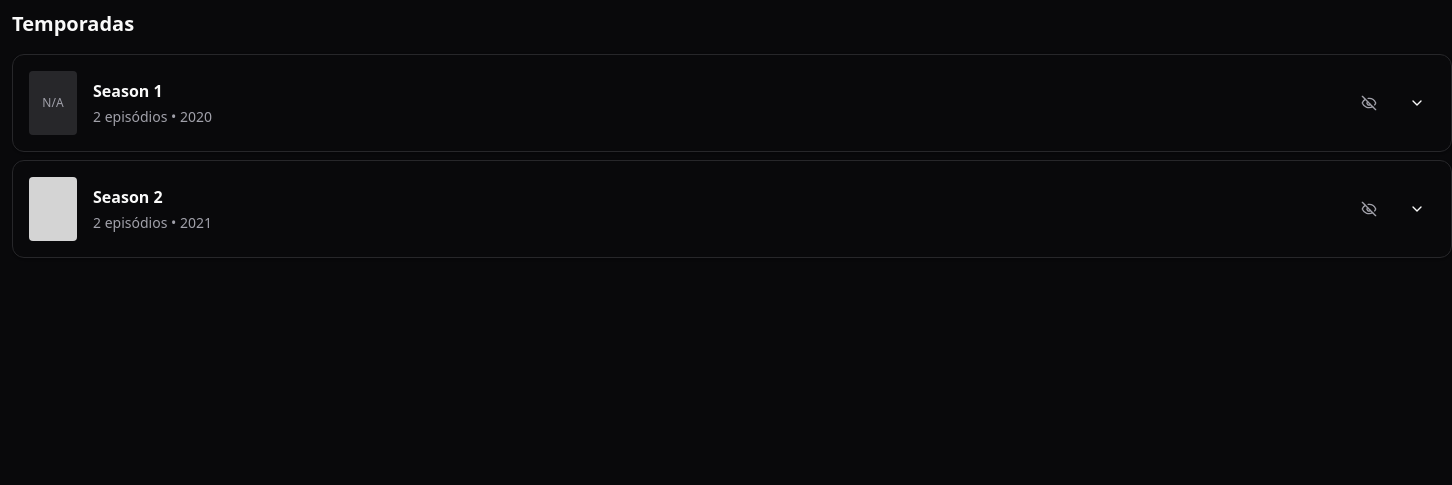
Scenario: SeasonList › collapses season when clicking expanded season again
Step 1. Click the heading "Season 1" → (128, 91), box x1=93 y1=80 x2=163 y2=102
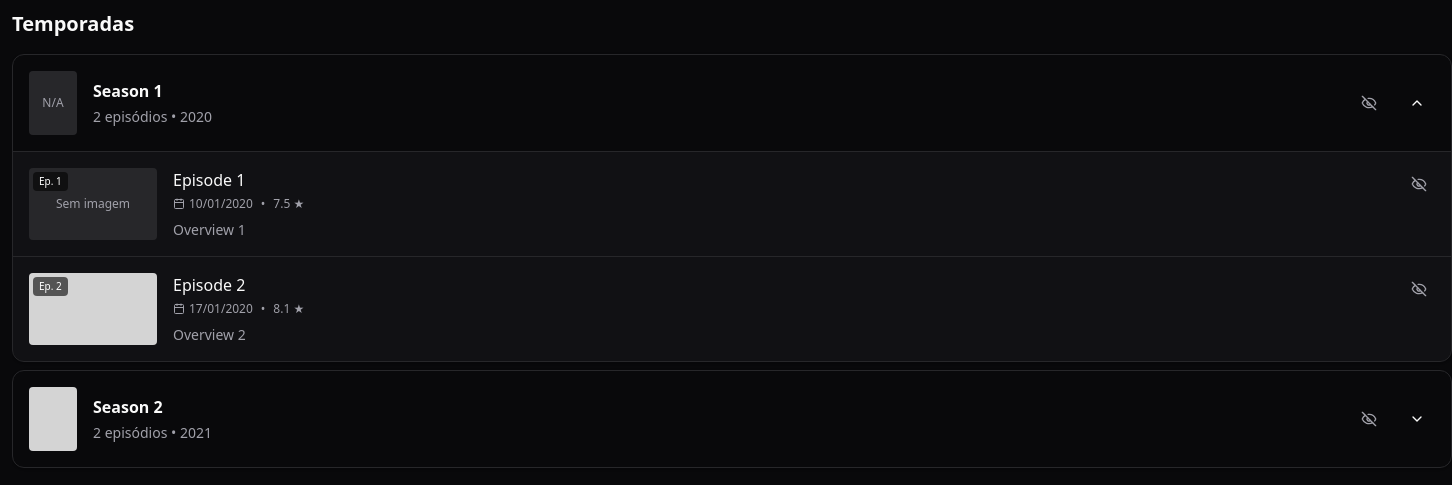
Expected: the heading "Episode 1" is shown, x1=173 y1=169 x2=245 y2=191
Step 2. Click the heading "Season 1" → (128, 91), box x1=93 y1=80 x2=163 y2=102
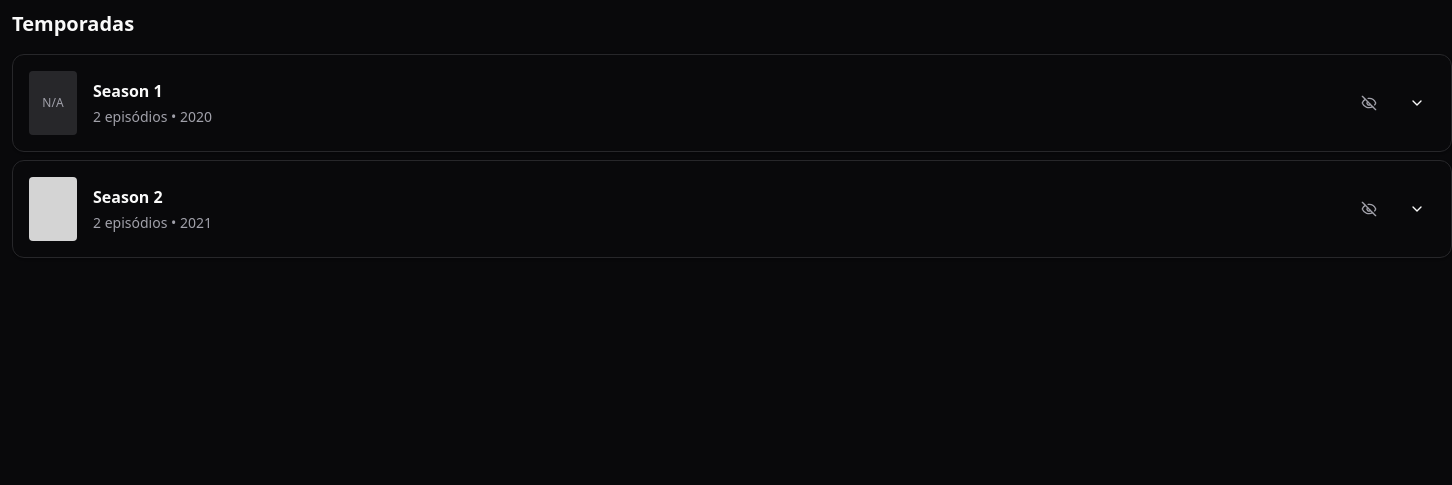
Expected: the heading "Episode 1" is gone
